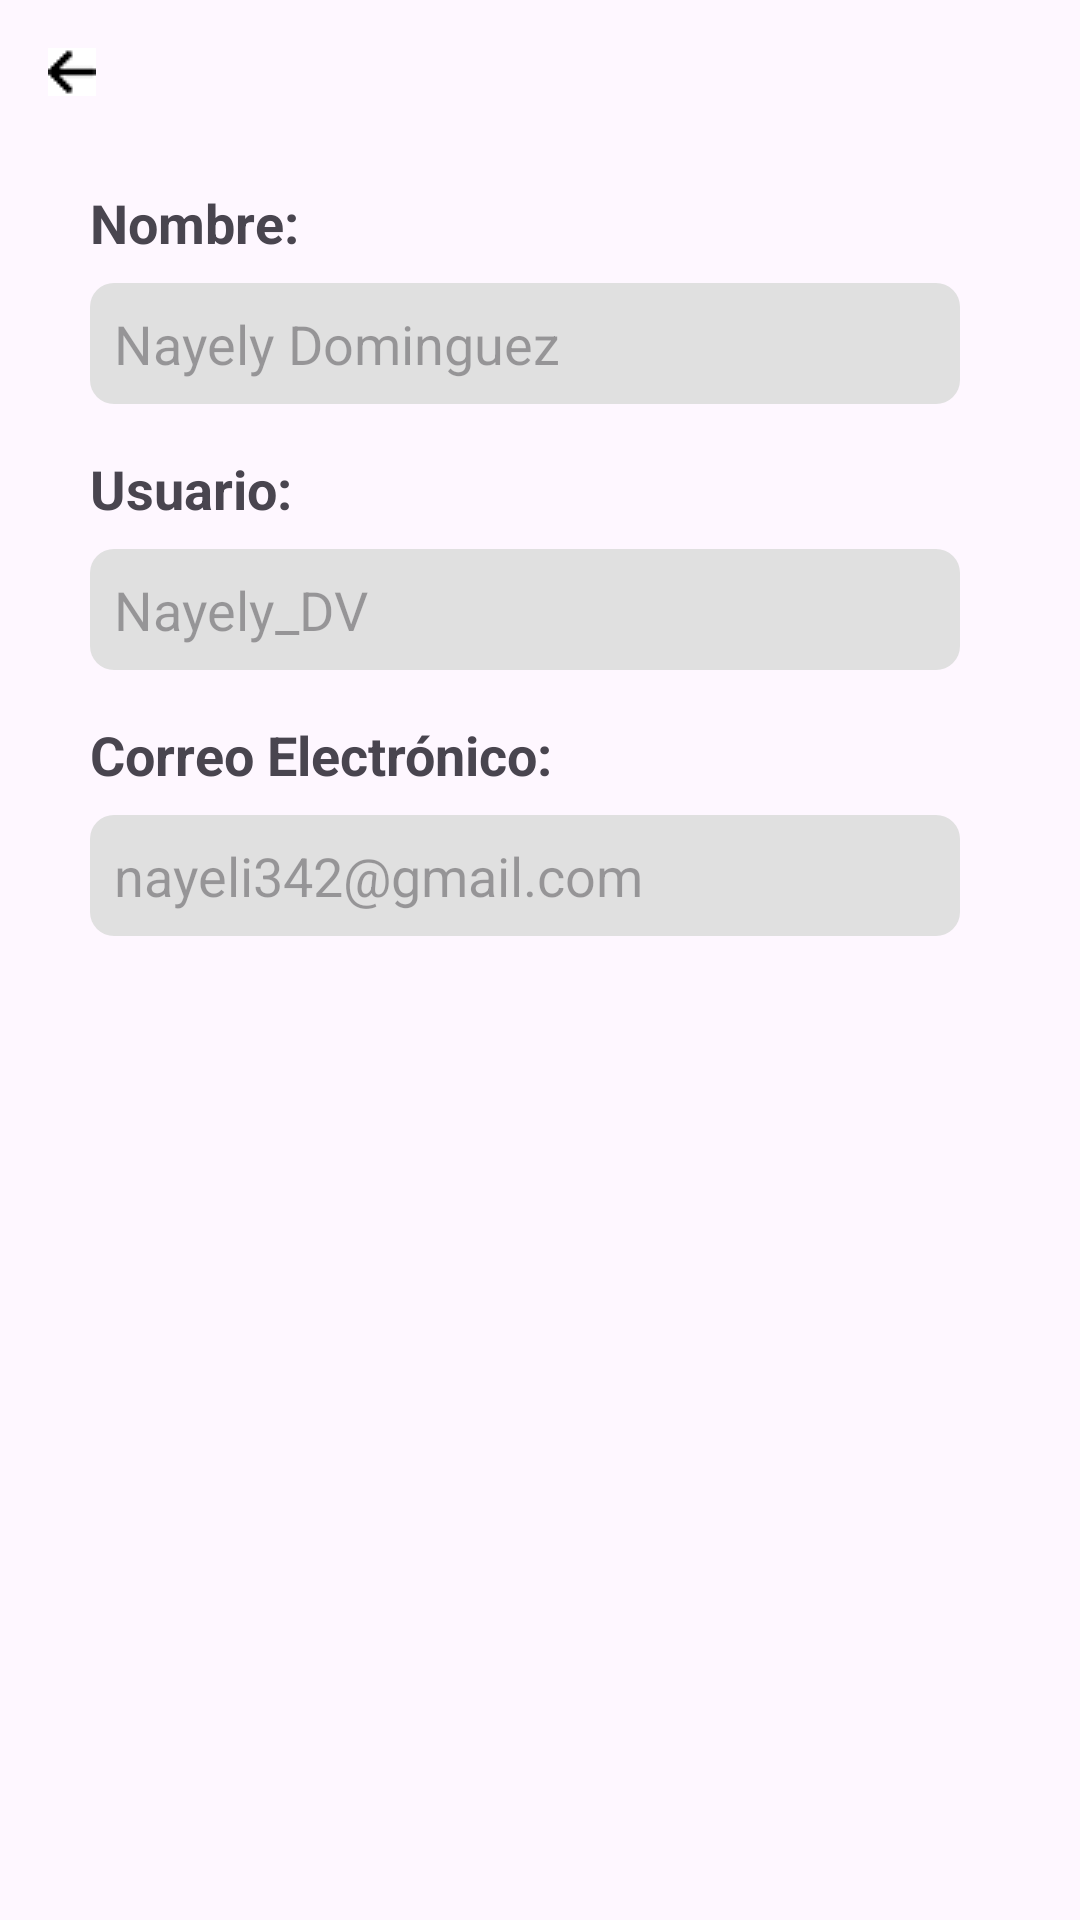

Icon click points for this 1080×1920 phone screenshot, format [x,y]:
back: [72,72]
